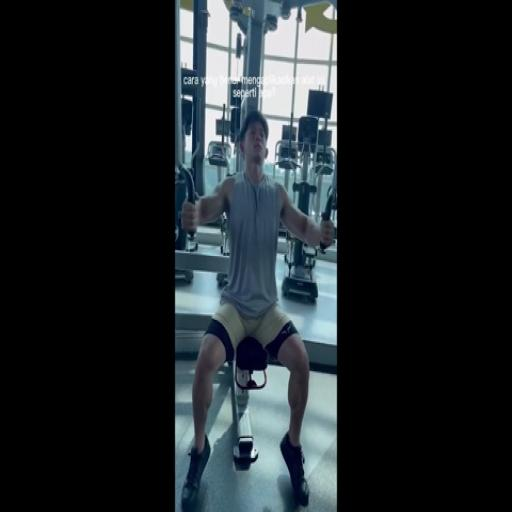exercise: (179, 108, 336, 511)
